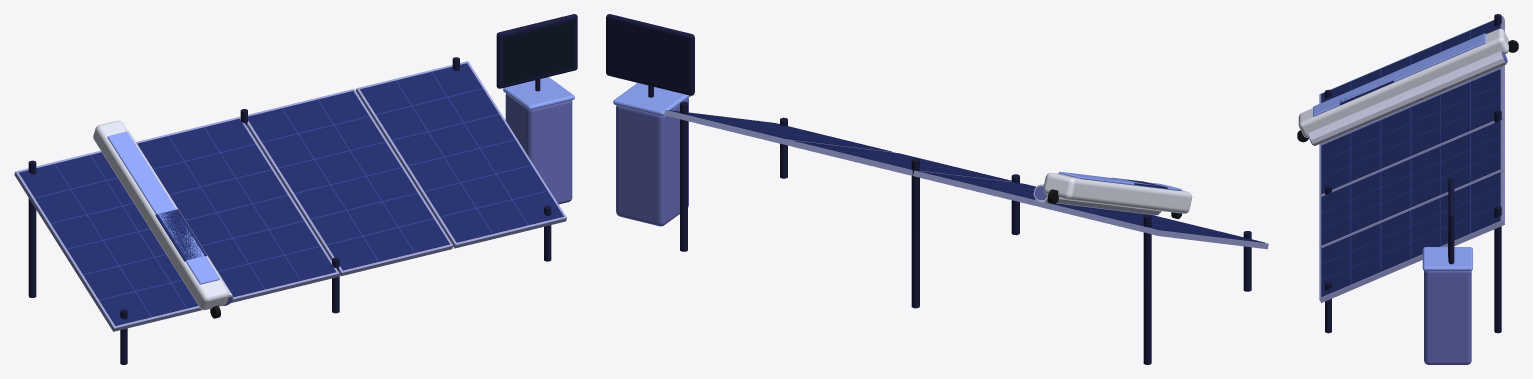
File: solarCleaner.glb
The picture shows the model from 3 angles, left to right: view 1: azimuth 30°, elevation 25°; view 2: azimuth 150°, elevation 25°; view 3: azimuth 270°, elevation 25°; orthographic projection. The views are drawn at different scales.
Visible parts, largest first — view 1: panel2, panel3, panel1, panel0, dockBox, cleanerBody, plates, cleanerTrim, frame, plateFrame, dockTrim, cleanerPv; view 2: dockBox, plateFrame, frame, cleanerBody, panel0, panel3, panel2, panel1, dockTrim, brush, cleanerTrim; view 3: panel3, panel2, panel1, dockBox, cleanerBody, brush, panel0, cleanerTrim, frame, dockTrim, plateFrame, cleanerPv.
Boxes of the visible parts, box(x1,y1,x2,y2) form: panel2: box(247, 89, 453, 276); panel3: box(356, 61, 566, 248); panel1: box(136, 116, 339, 302); panel0: box(14, 150, 201, 331); dockBox: box(505, 93, 572, 204); cleanerBody: box(93, 120, 229, 310); plates: box(503, 21, 574, 84); cleanerTrim: box(107, 131, 219, 284); frame: box(28, 57, 551, 364); plateFrame: box(496, 14, 577, 88); dockTrim: box(503, 77, 574, 110); cleanerPv: box(155, 209, 206, 261); dockBox: box(616, 98, 688, 226); plateFrame: box(606, 14, 694, 95); frame: box(680, 101, 1251, 364); cleanerBody: box(1043, 173, 1192, 213); panel0: box(1037, 201, 1268, 249); panel3: box(664, 110, 894, 152); panel2: box(788, 140, 1012, 182); panel1: box(913, 170, 1038, 205); dockTrim: box(613, 83, 690, 116); brush: box(1033, 184, 1161, 215); cleanerTrim: box(1058, 171, 1181, 190); panel3: box(1319, 170, 1504, 302); panel2: box(1319, 119, 1504, 248); panel1: box(1319, 67, 1504, 196); dockBox: box(1424, 271, 1471, 364); cleanerBody: box(1298, 28, 1508, 137); brush: box(1308, 51, 1507, 145); panel0: box(1319, 16, 1504, 145); cleanerTrim: box(1313, 33, 1485, 116); frame: box(1325, 14, 1501, 333); dockTrim: box(1422, 247, 1472, 270); plateFrame: box(1448, 178, 1454, 264); cleanerPv: box(1339, 71, 1393, 105).
Size of the model in its own units: 4.79 by 1.49 by 1.86.
